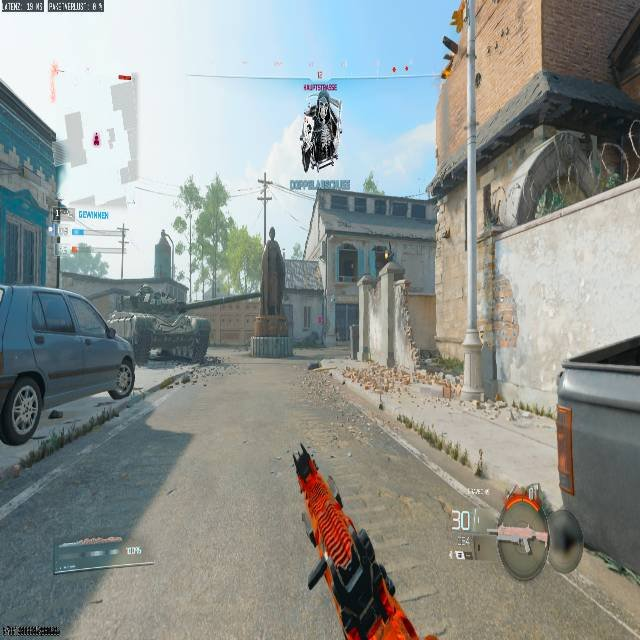player: (302, 94, 341, 171)
